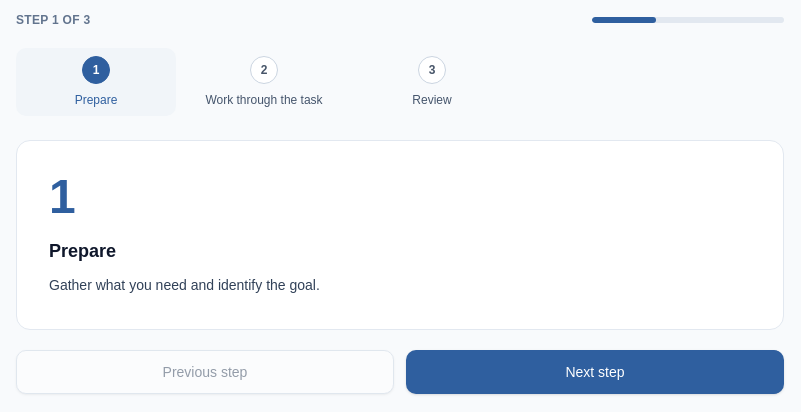
Test: process-step styles › allows direct navigation in numbered without marking skipped steps
What coordinates should you click on to do the following:
click the button with aria-label "View step 3: Review"
I would click on:
 (432, 82)
Its box is [352,48,512,116].
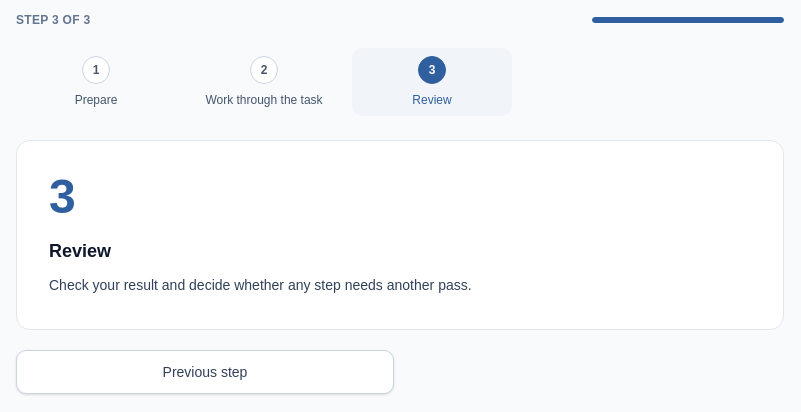
Expected: the element that starts with "Review" shows "Check your result and decide whether any step needs another pass.", [49,277,472,293]
